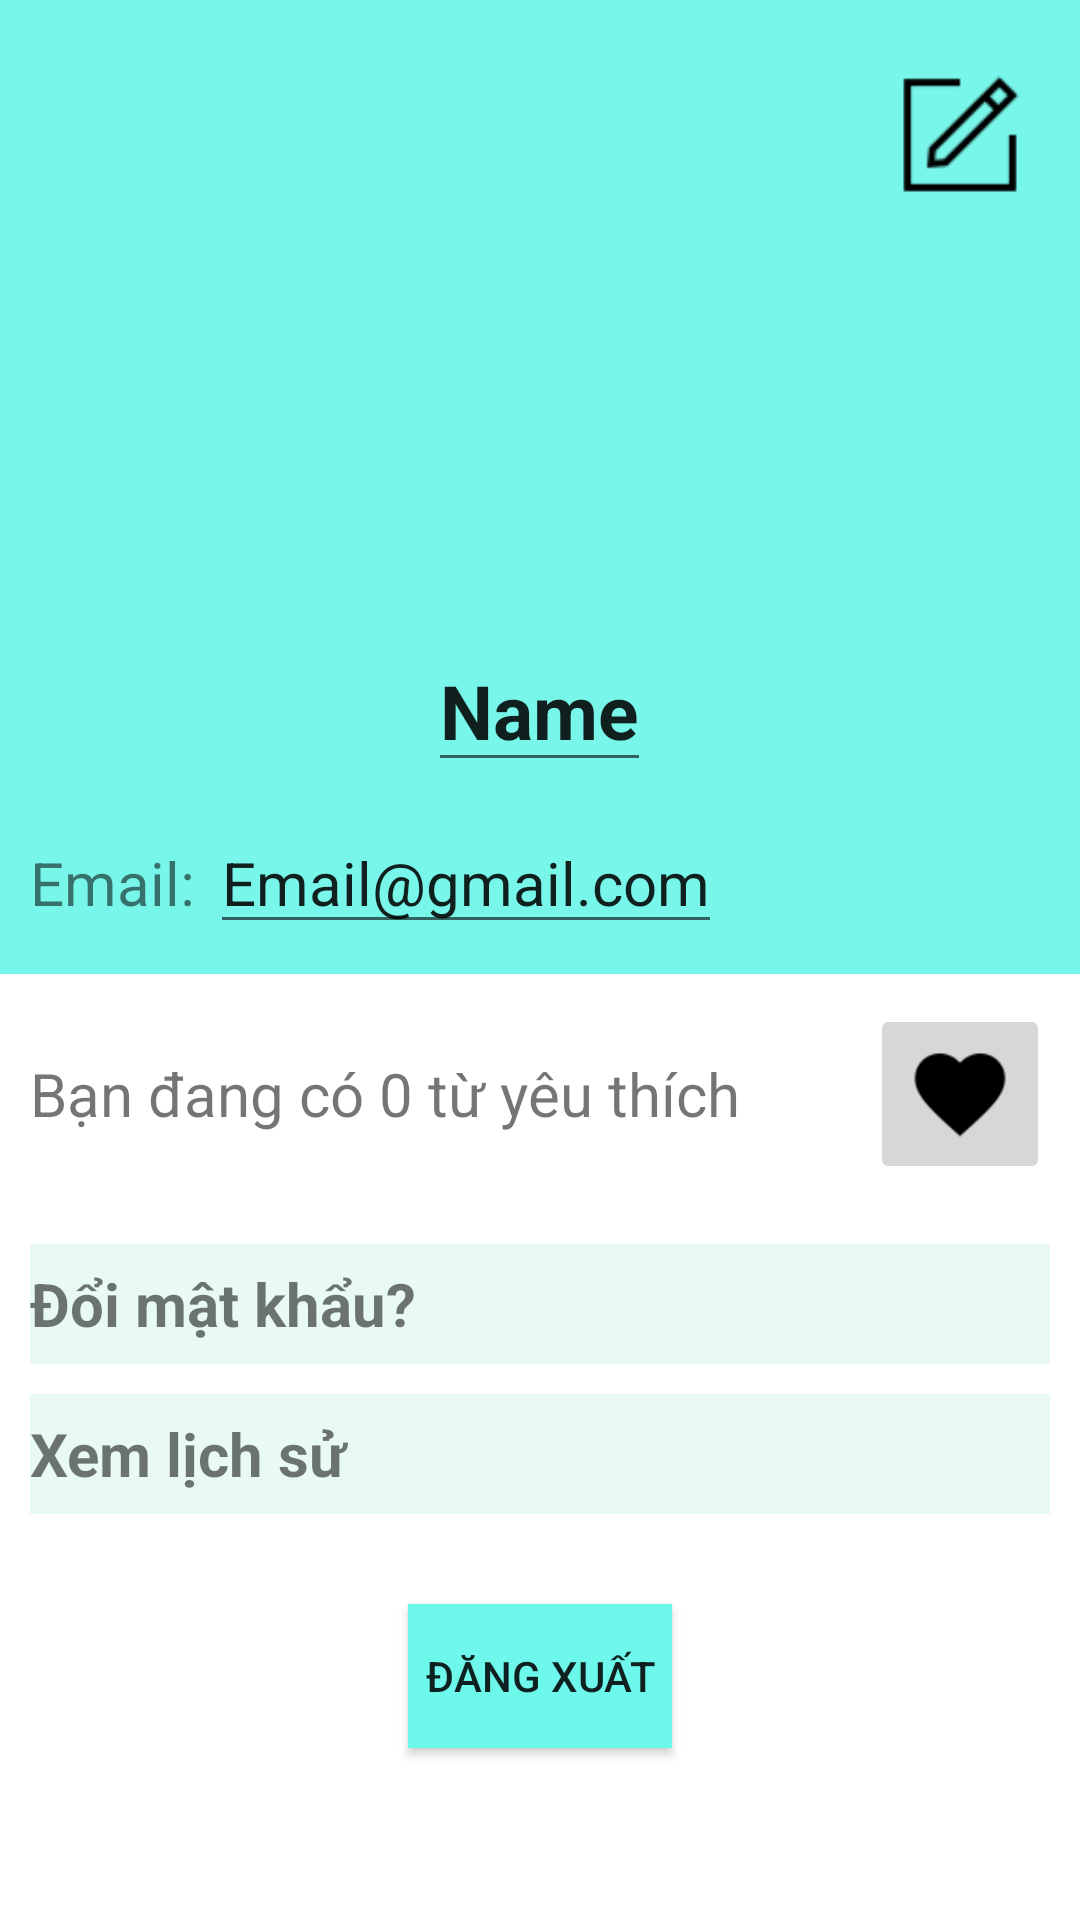

Icons on this 1080w x 1920h Android screen, each with the point to tap as [x,y]:
edit: [961,134]
favorite true: [960,1094]
